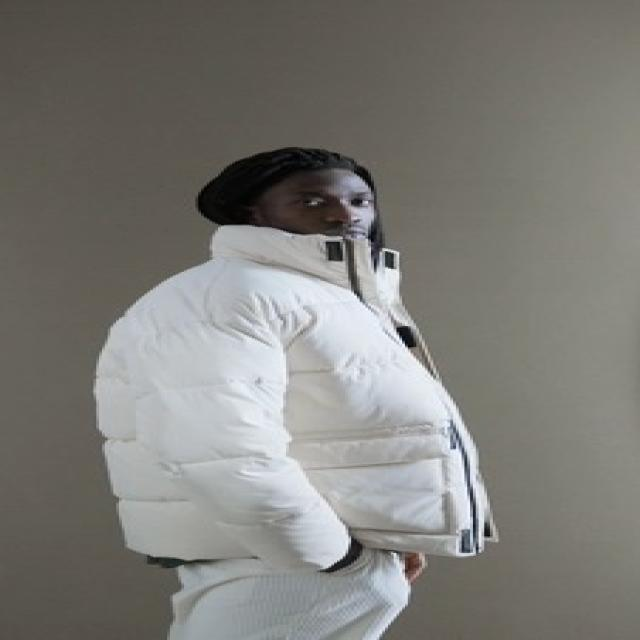Jacket_Wearer: (102, 223, 502, 560)
Person: (113, 151, 487, 640)
